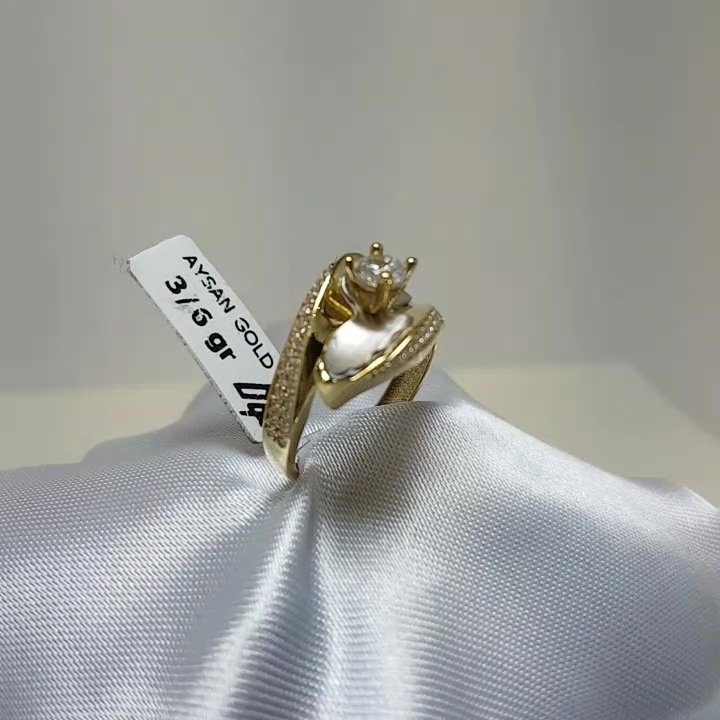Ring 6: (206, 226, 447, 505)
